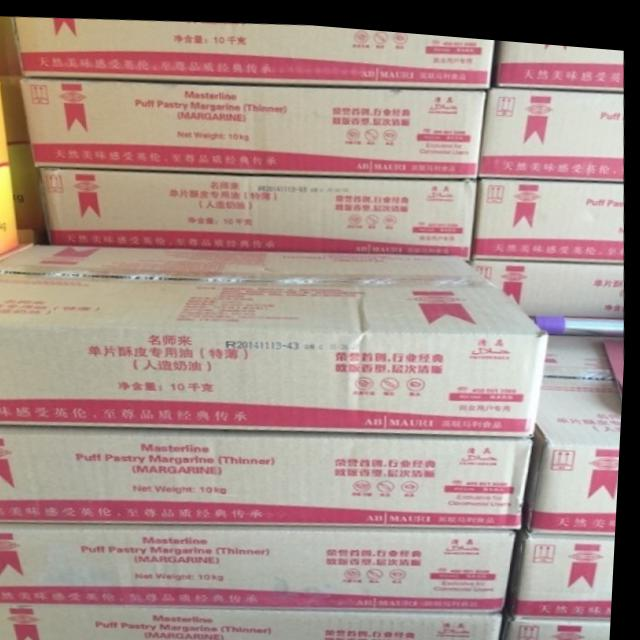box: (0, 243, 553, 427), (0, 426, 540, 522), (21, 77, 489, 171), (0, 521, 522, 605), (41, 167, 480, 253), (12, 16, 495, 82), (528, 325, 627, 524), (0, 604, 509, 640), (481, 78, 625, 172), (476, 170, 626, 253), (0, 17, 50, 242), (507, 521, 620, 610), (469, 253, 627, 308), (492, 32, 624, 82), (0, 68, 23, 256), (505, 606, 617, 640)
